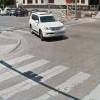Crosswalk: (8, 47, 77, 100)
